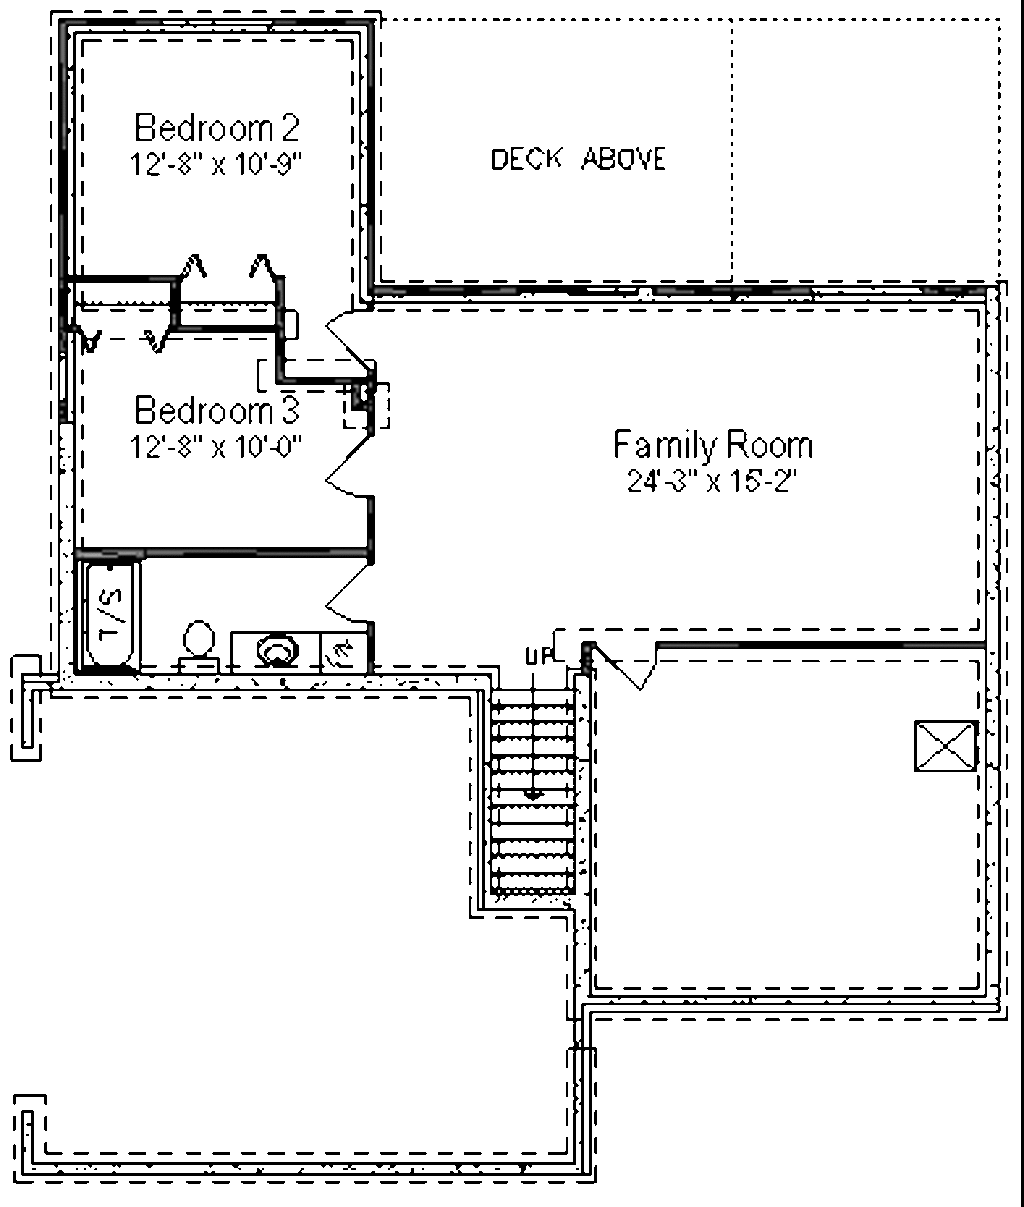door: (314, 425, 389, 500), (321, 308, 389, 370), (593, 638, 661, 700), (331, 563, 393, 629)
large_sink: (163, 608, 231, 687)
small_sink: (249, 632, 312, 676)
stairs: (485, 668, 578, 914)
tub: (68, 544, 144, 674)
